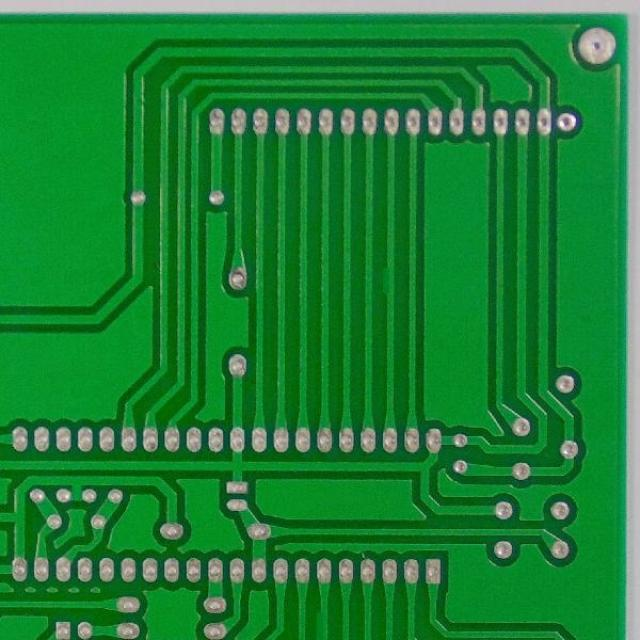spur: (312, 606, 330, 639), (378, 264, 394, 298)
